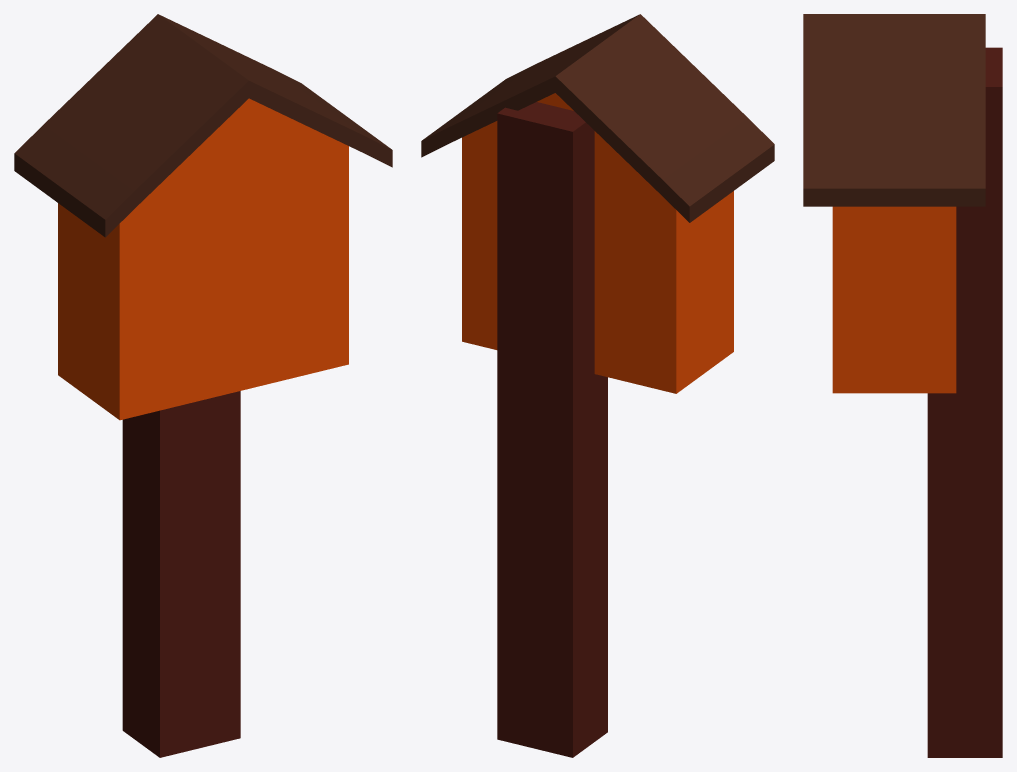
Rendered from post_box.FBX.
3 views of the same model, side by side, from view 1: azimuth 30°, elevation 25°; view 2: azimuth 150°, elevation 25°; view 3: azimuth 270°, elevation 25° (orthographic). The views are drawn at different scales.
Parts seen in each view (by area): view 1: post_box, Box160, Box159; view 2: Box160, post_box, Box159; view 3: Box160, Box159, post_box.
Boxes of the visible parts, x1,y1,x2,y2 form: post_box: [58, 98, 348, 420]; Box160: [122, 391, 240, 757]; Box159: [14, 14, 392, 237]; Box160: [497, 102, 607, 757]; post_box: [462, 93, 733, 393]; Box159: [421, 14, 774, 222]; Box160: [927, 47, 1002, 757]; Box159: [803, 14, 985, 206]; post_box: [832, 206, 956, 393].
Size of the model in its own units: 3.09 by 7.36 by 1.85.
